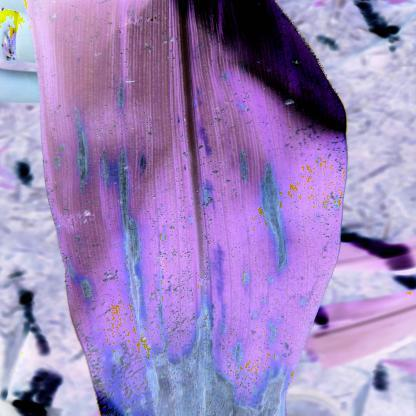Corn leaf blight: (34, 4, 337, 416)
